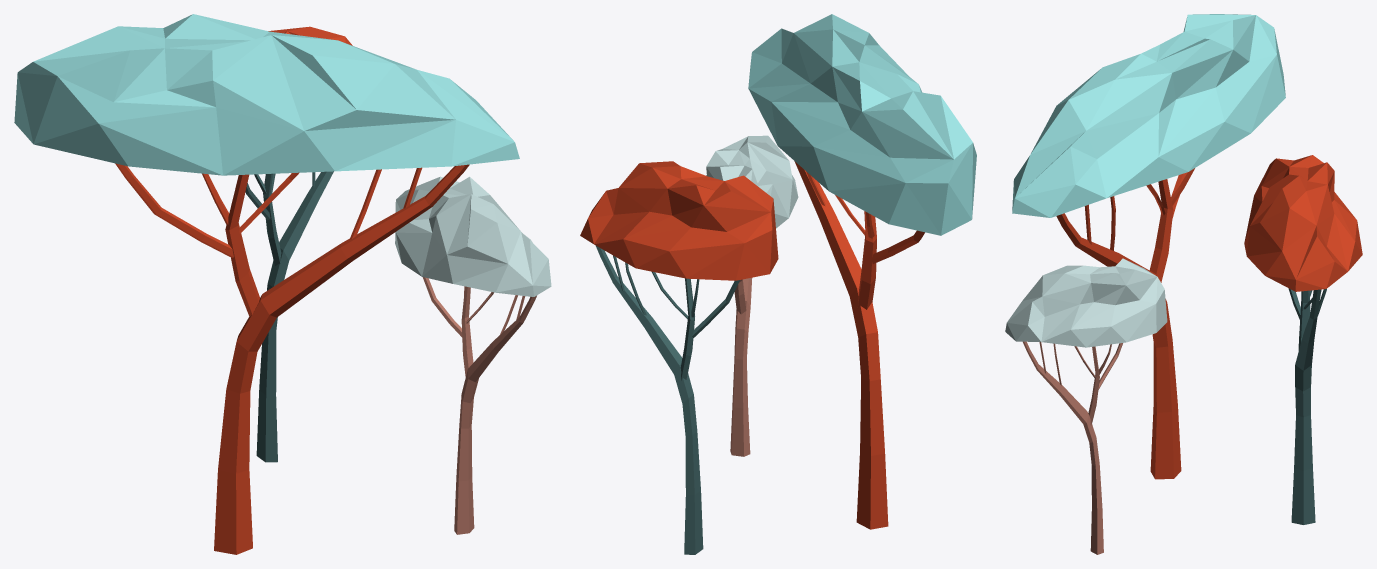
The model's file is TP_Plant04.fbx.
3 renders of one model, left to right at view 1: azimuth 30°, elevation 25°; view 2: azimuth 150°, elevation 25°; view 3: azimuth 270°, elevation 25°, orthographic. The views are drawn at different scales.
Visible parts, largest first — view 1: TP_Plant04; view 2: TP_Plant04; view 3: TP_Plant04.
Part boxes in pixels (x1,y1,x2,y2): TP_Plant04: [14, 14, 551, 554]; TP_Plant04: [580, 14, 976, 554]; TP_Plant04: [1005, 14, 1362, 554].
Bounding box in the file's own units: 33.16 × 41.07 × 30.97.
1 material, 1 textured.
